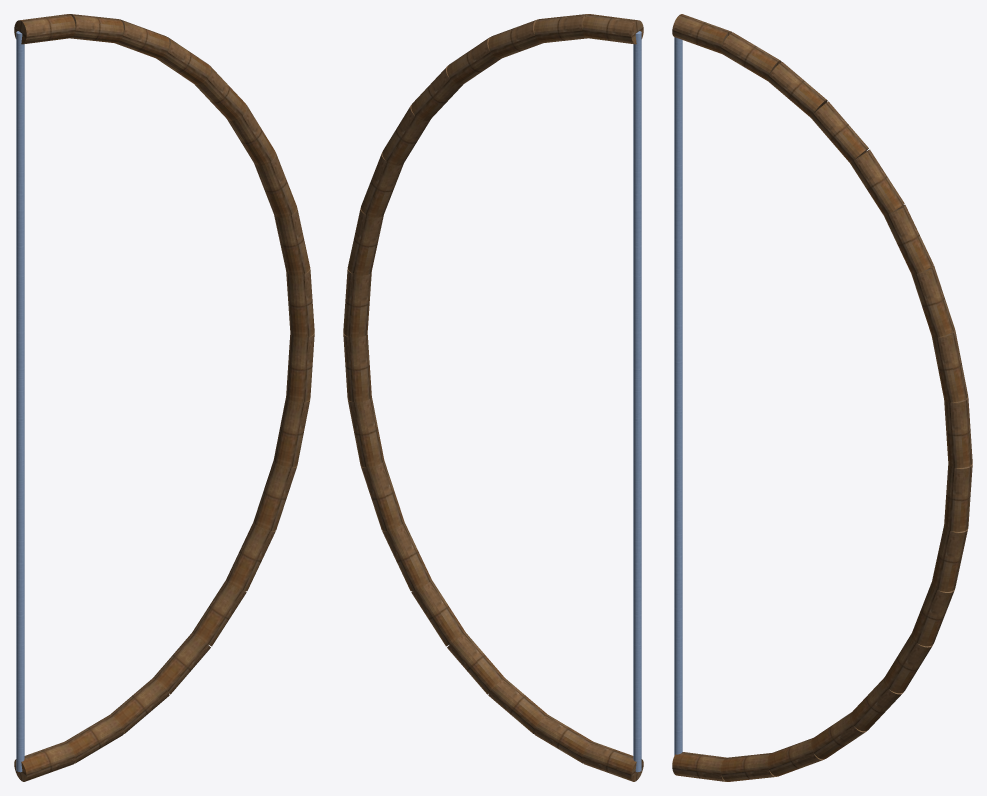
File: arco.glb
The picture shows the model from 3 angles, left to right: view 1: azimuth 30°, elevation 25°; view 2: azimuth 150°, elevation 25°; view 3: azimuth 330°, elevation 25°; orthographic projection.
Parts seen in each view (by area): view 1: Corda, Arco.007, Arco.006, Arco.008, Arco.005, Arco.009, Arco.004, Arco.010, Arco.003, Arco.002, Arco.011, Arco.017 (+7 smaller); view 2: Corda, Arco.007, Arco.006, Arco.008, Arco.005, Arco.009, Arco.004, Arco.010, Arco.003, Arco.002, Arco.011, Arco.017 (+7 smaller); view 3: Corda, Arco.011, Arco.010, Arco.012, Arco.009, Arco.008, Arco.013, Arco.014, Arco.007, Arco.015, Arco.006, Arco.016 (+7 smaller).
Part boxes in pixels (<box>): Corda: <box>16,31,24,772</box>; Arco.007: <box>273,397,309,467</box>; Arco.006: <box>253,460,296,530</box>; Arco.008: <box>286,333,314,402</box>; Arco.005: <box>226,522,275,591</box>; Arco.009: <box>286,268,314,337</box>; Arco.004: <box>192,580,246,646</box>; Arco.010: <box>274,207,310,275</box>; Arco.003: <box>153,633,210,694</box>; Arco.002: <box>110,678,169,733</box>; Arco.011: <box>254,152,296,217</box>; Arco.017: <box>14,14,75,44</box>; Corda: <box>633,31,641,772</box>; Arco.007: <box>348,397,384,467</box>; Arco.006: <box>361,460,404,530</box>; Arco.008: <box>343,333,371,402</box>; Arco.005: <box>382,522,431,591</box>; Arco.009: <box>343,268,371,337</box>; Arco.004: <box>411,580,465,646</box>; Arco.010: <box>347,207,383,275</box>; Arco.003: <box>447,633,504,694</box>; Arco.002: <box>488,678,547,733</box>; Arco.011: <box>361,152,403,217</box>; Arco.017: <box>582,14,643,44</box>; Corda: <box>674,37,682,755</box>; Arco.011: <box>911,265,954,337</box>; Arco.010: <box>932,330,967,402</box>; Arco.012: <box>884,204,933,274</box>; Arco.009: <box>944,397,972,467</box>; Arco.008: <box>944,463,972,531</box>; Arco.013: <box>850,149,904,215</box>; Arco.014: <box>811,101,868,162</box>; Arco.007: <box>931,525,968,591</box>; Arco.015: <box>767,62,827,117</box>; Arco.006: <box>911,583,954,646</box>; Arco.016: <box>721,32,781,80</box>.
Bounding box in the file's own units: 0.8399 × 2.06 × 0.06.
Materials: 2 (2 with a texture image).
